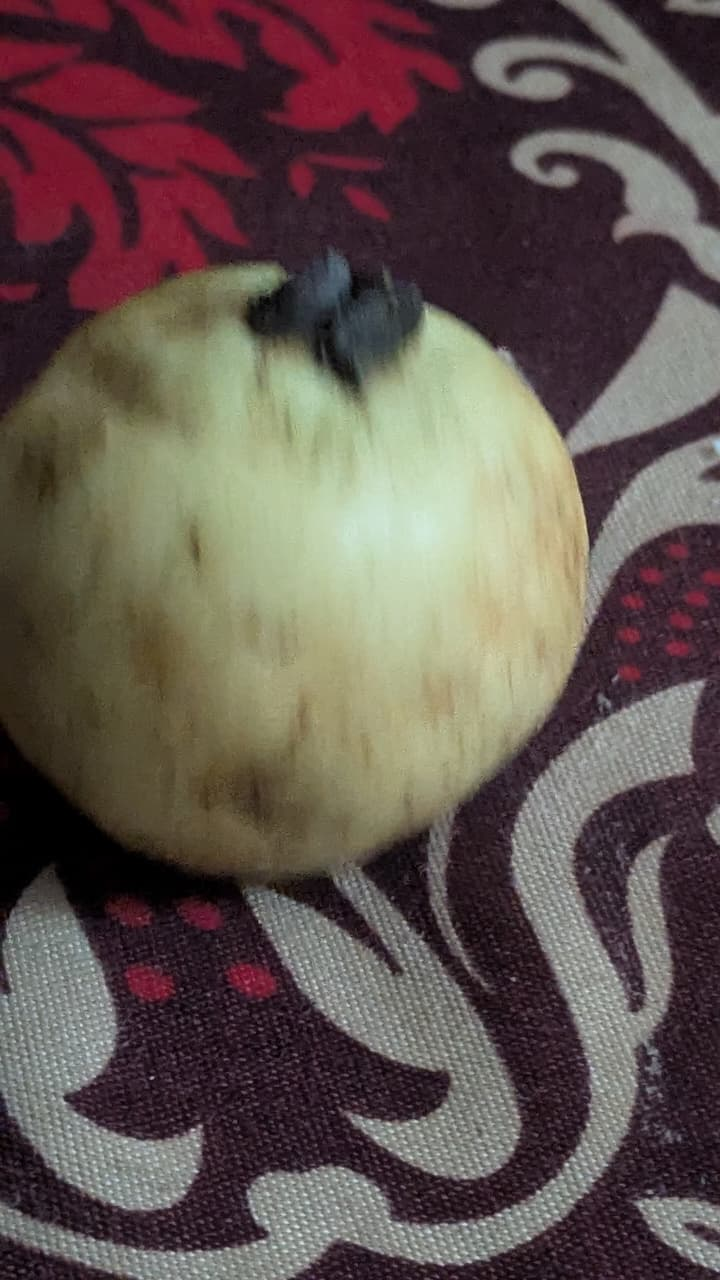guava: (55, 44, 603, 1075)
